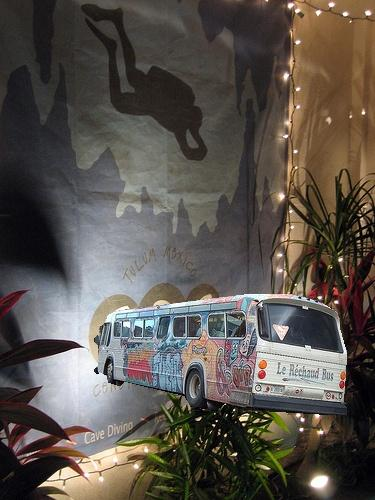tampered: (95, 295, 347, 415)
